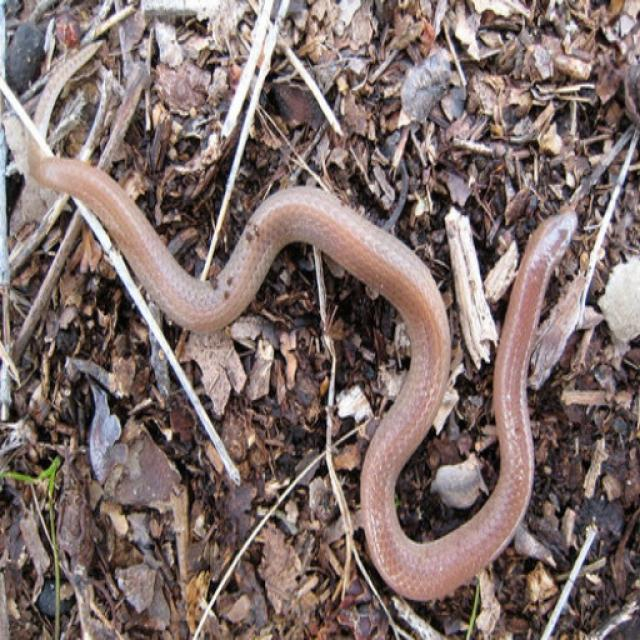snake: (23, 111, 586, 606)
